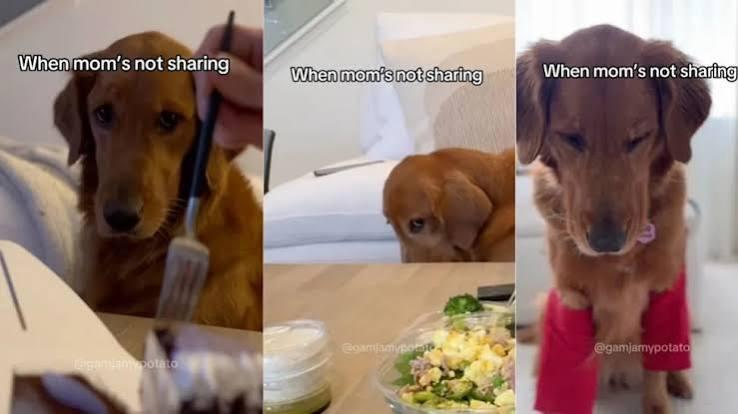adult_dog: (516, 25, 714, 412), (48, 30, 265, 331), (381, 146, 516, 263)
